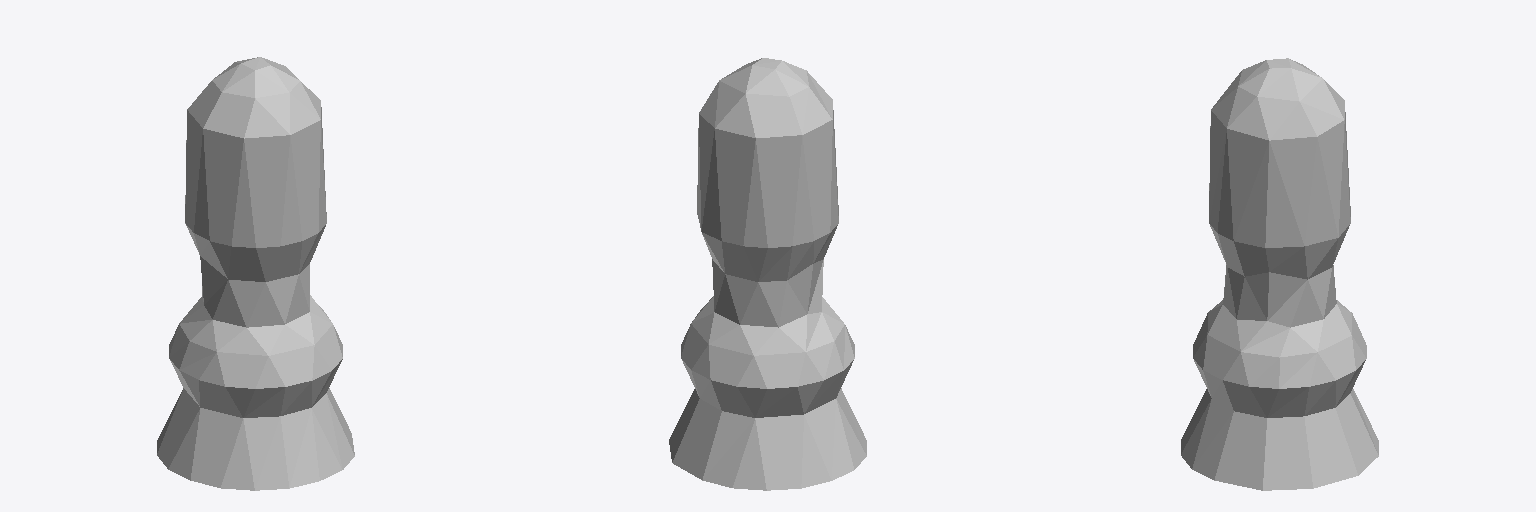
File: light_2.obj
The picture shows the model from 3 angles: view 1: azimuth 30°, elevation 25°; view 2: azimuth 150°, elevation 25°; view 3: azimuth 270°, elevation 25°; orthographic projection.
Parts seen in each view (by area): view 1: Cylinder001.001_Untitled.004; view 2: Cylinder001.001_Untitled.004; view 3: Cylinder001.001_Untitled.004.
Part boxes in pixels (x1,y1,x2,y2): Cylinder001.001_Untitled.004: (157, 57, 354, 490); Cylinder001.001_Untitled.004: (669, 58, 866, 490); Cylinder001.001_Untitled.004: (1181, 58, 1378, 490).
Size of the model in its own units: 0.2348 by 0.4952 by 0.2317.